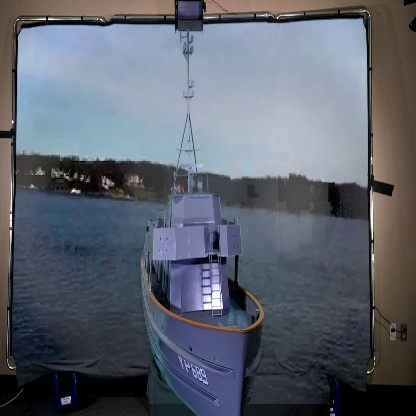YP689: (139, 32, 265, 416)
